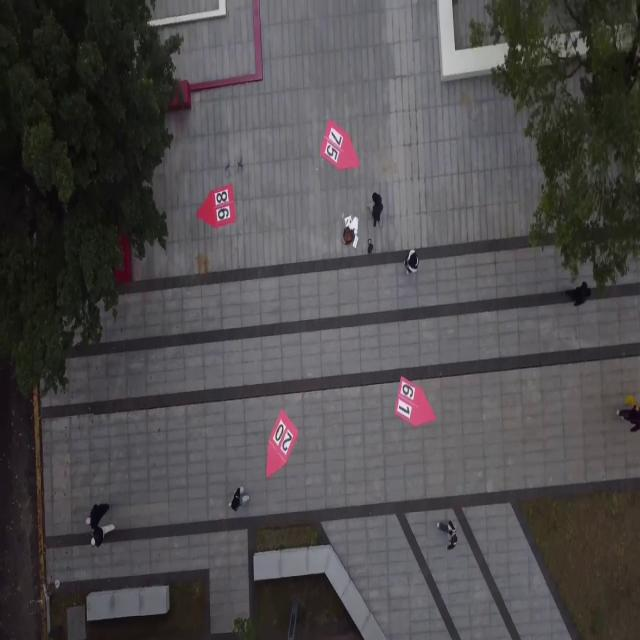-sign-: (391, 371, 441, 437), (314, 114, 364, 176), (265, 402, 300, 483), (195, 179, 242, 234)
